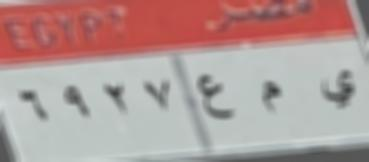2: (100, 78, 128, 117)
6: (15, 82, 50, 126)
7: (138, 76, 174, 117)
9: (59, 83, 92, 124)
ain: (192, 70, 235, 124)
meem: (254, 76, 284, 118)
yaa: (318, 70, 359, 112)
